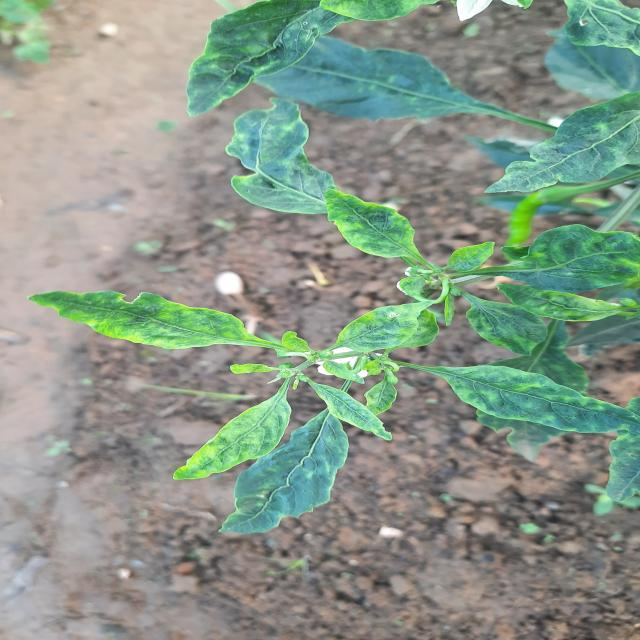thrips: (17, 282, 265, 364), (165, 382, 319, 490), (293, 196, 455, 258)
